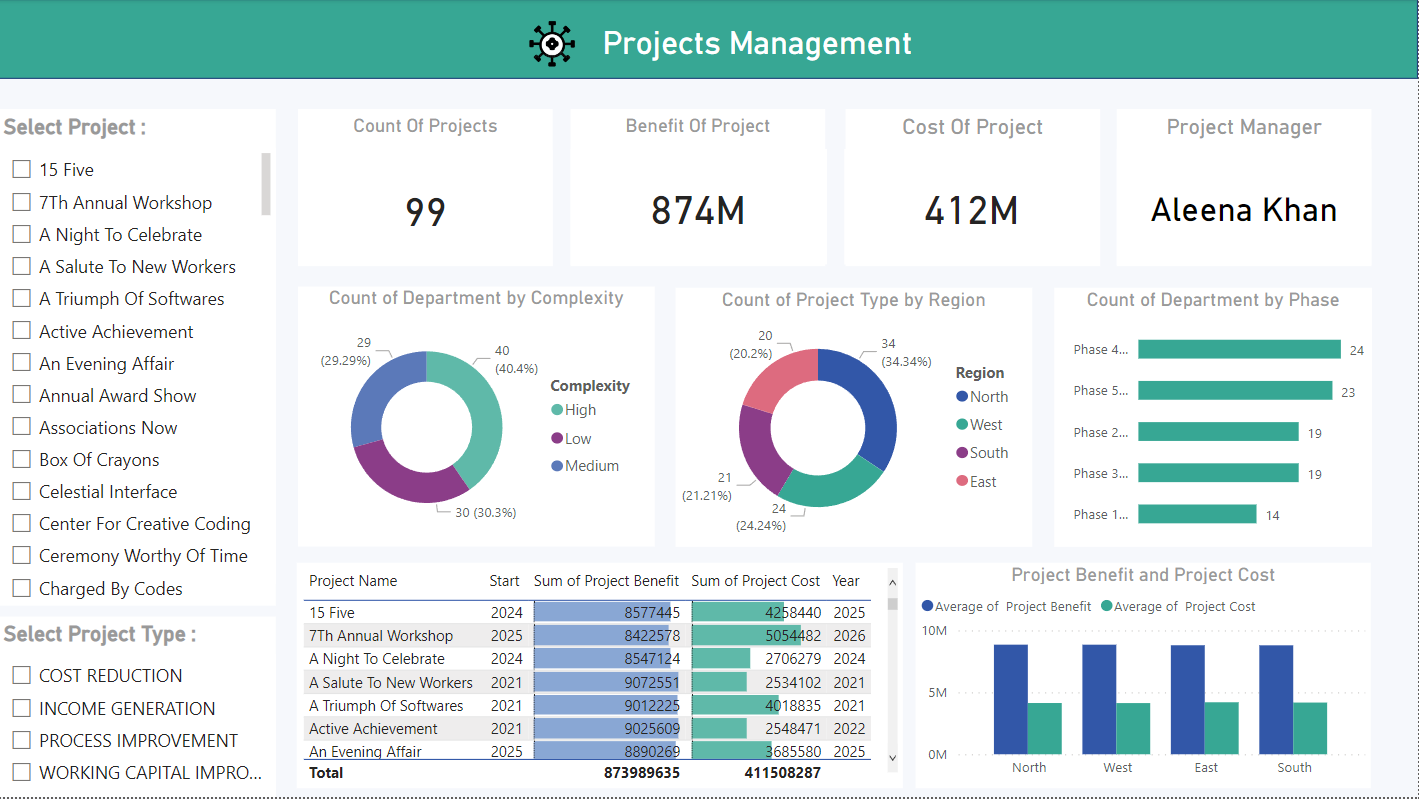

The page's visual inventory and layout, read from the dashboard file:
{"tool":"powerbi","page":{"name":"Page 1","canvas":[1280,720],"ordinal":0},"visuals":[{"type":"shape","box":[0,0,1280,72.3],"z":0},{"type":"image","box":[449.8,0,99,99],"z":500},{"type":"textbox","box":[0,99,250.6,427.8],"z":1000},{"type":"textbox","box":[0,556.5,250.4,164.2],"z":2000},{"type":"textbox","box":[763.8,98.8,229.6,141.9],"z":3000},{"type":"textbox","box":[1008.7,98.8,229.6,141.9],"z":4000},{"type":"textbox","box":[0,0,1280,72.3],"z":5000},{"type":"textbox","box":[516.2,98.8,229.6,141.9],"z":6000},{"type":"textbox","box":[269.9,98.8,229.6,141.9],"z":7000},{"type":"card","title":"Count Of Projects","fields":{"Values":["Project Management Dataset.Project_id"]},"box":[269.9,136.3,229.6,104.3],"z":8000},{"type":"card","title":"Benefit Of Project","fields":{"Values":["Project Management Dataset. Project Benefit "]},"box":[515.7,135,231,104.3],"z":9000},{"type":"card","title":"Cost Of Project","fields":{"Values":["Project Management Dataset. Project Cost "]},"box":[762.9,135,229.6,104.3],"z":10000},{"type":"card","title":"Project Managar","fields":{"Values":["Project Management Dataset.Project Manager"]},"box":[1008.7,135,229.6,104.3],"z":11000},{"type":"slicer","fields":{"Values":["Project Management Dataset.Project Type"]},"box":[0,590.4,250.6,129.6],"z":12000},{"type":"donutChart","fields":{"Category":["Project Management Dataset.Complexity"],"Y":["Project Management Dataset.Department"]},"box":[270,259.5,321.5,234.7],"z":13000},{"type":"clusteredColumnChart","title":"Project Benefit and Project Cost ","fields":{"Category":["Project Management Dataset.Region"],"Y":["Project Management Dataset. Project Benefit ","Project Management Dataset. Project Cost "]},"box":[827.6,508.5,410.7,202.9],"z":14000},{"type":"tableEx","fields":{"Values":["Project Management Dataset.Project Name","Project Management Dataset.Start","Project Management Dataset. Project Benefit ","Project Management Dataset. Project Cost ","Project Management Dataset.End Date.Variation.Date Hierarchy.Year"]},"box":[268.9,508.5,546.4,202.9],"z":15000},{"type":"slicer","fields":{"Values":["Project Management Dataset.Project Name"]},"box":[0,134.5,250.6,413.2],"z":16000},{"type":"clusteredBarChart","fields":{"Category":["Project Management Dataset.Phase"],"Y":["Project Management Dataset.Department"]},"box":[951.7,260.2,286.6,233.7],"z":17000},{"type":"donutChart","fields":{"Category":["Project Management Dataset.Region"],"Y":["Project Management Dataset.Project Type"]},"box":[610.9,260.2,321.4,233.7],"z":18000}]}

Visuals, with their boxes in screenshot pixels (x1, y1, x2, y2), scaled from the page's 1280x720 canvas onto the 1419x799 screenshot:
shape: rect(0, 0, 1418, 80)
image: rect(499, 0, 608, 110)
textbox: rect(0, 110, 278, 585)
textbox: rect(0, 618, 278, 798)
textbox: rect(847, 110, 1101, 267)
textbox: rect(1118, 110, 1373, 267)
textbox: rect(0, 0, 1418, 80)
textbox: rect(572, 110, 827, 267)
textbox: rect(299, 110, 554, 267)
"Count Of Projects" card: rect(299, 151, 554, 267)
"Benefit Of Project" card: rect(572, 150, 828, 266)
"Cost Of Project" card: rect(846, 150, 1100, 266)
"Project Managar" card: rect(1118, 150, 1373, 266)
slicer - Project Management Dataset.Project Type: rect(0, 655, 278, 798)
donutChart - Project Management Dataset.Complexity x Project Management Dataset.Department: rect(299, 288, 656, 548)
"Project Benefit and Project Cost " clusteredColumnChart: rect(917, 564, 1373, 789)
tableEx - Project Management Dataset.Project Name x Project Management Dataset.Start: rect(298, 564, 904, 789)
slicer - Project Management Dataset.Project Name: rect(0, 149, 278, 608)
clusteredBarChart - Project Management Dataset.Phase x Project Management Dataset.Department: rect(1055, 289, 1373, 548)
donutChart - Project Management Dataset.Region x Project Management Dataset.Project Type: rect(677, 289, 1034, 548)
